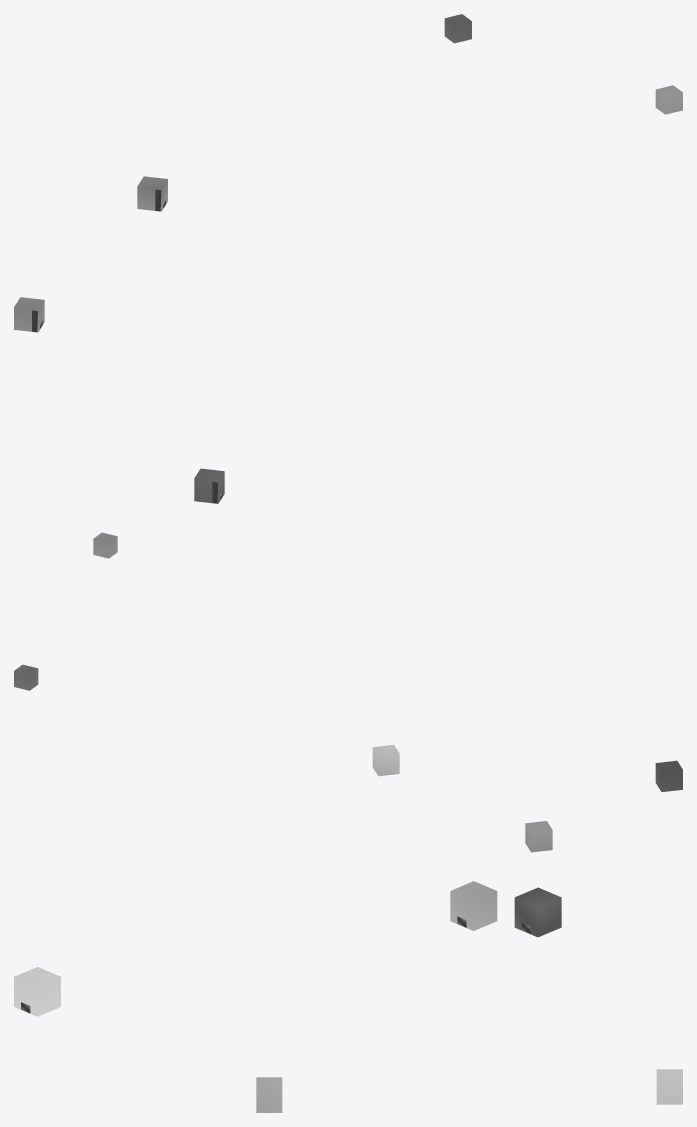
File: hj2-ruins-mesh.glb
3 views of the same model, one above another, from view 1: azimuth 30°, elevation 25°; view 2: azimuth 150°, elevation 25°; view 3: azimuth 270°, elevation 25° (orthographic). The views are drawn at different scales.
Visible parts, largest first — view 1: hj2-ruins-props-collide-0; view 2: hj2-ruins-props-collide-0; view 3: hj2-ruins-props-collide-0.
Boxes of the visible parts, <box> form: hj2-ruins-props-collide-0: <box>14,14,682,503</box>; hj2-ruins-props-collide-0: <box>14,532,682,852</box>; hj2-ruins-props-collide-0: <box>14,881,682,1112</box>.
Bounding box in the file's own units: 110 × 37.45 × 81.09.
Materials: 8 (8 with a texture image).
